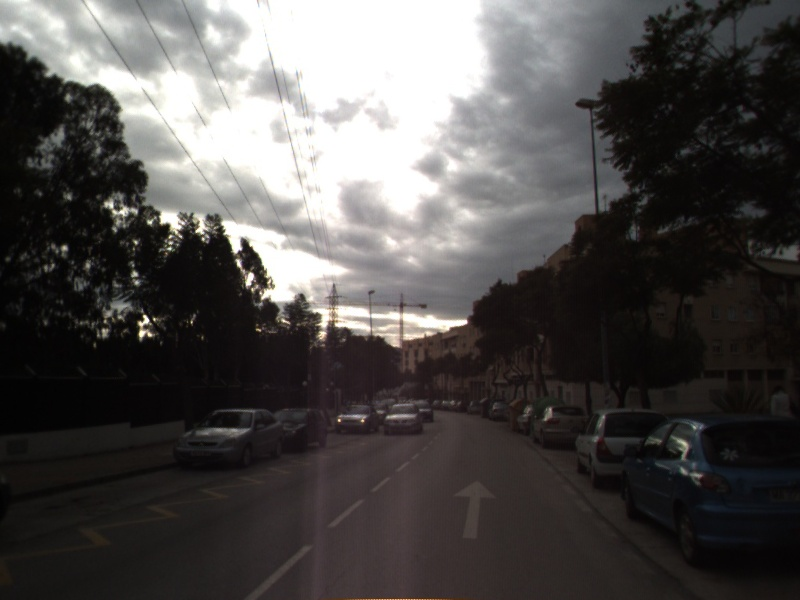STRAIGHT: (451, 478, 498, 541)
